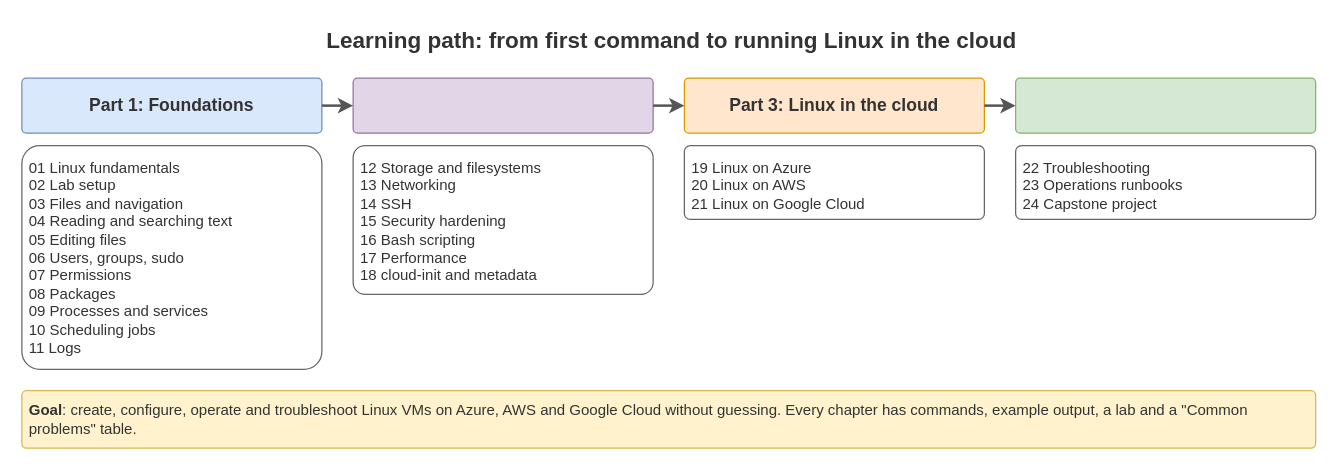
Some shapes in this 1344 by 470 pixel diagram are drawn without their labels. Each missing label, with the centre of its shape:
"Part 2: Server skills" goes at point 502,105.
"Part 4: Operations" goes at point 1165,105.
